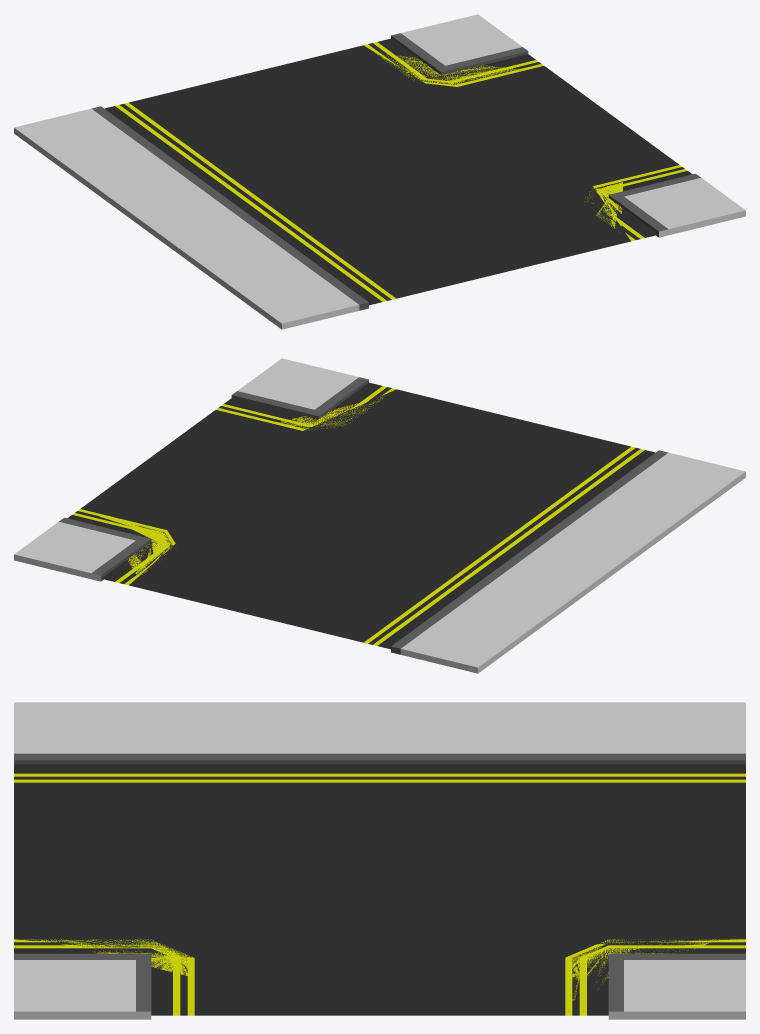
The model's file is m_e_s_road_3_intersection.fbx.
3 renders of one model, top to bottom at view 1: azimuth 30°, elevation 25°; view 2: azimuth 150°, elevation 25°; view 3: azimuth 270°, elevation 25°, orthographic. The views are drawn at different scales.
Visible parts, largest first — view 1: Cube.004, Cube.001, Cube.000, Cube.002; view 2: Cube.004, Cube.001, Cube.002, Cube.000; view 3: Cube.004, Cube.001, Cube.002, Cube.000.
Part boxes in pixels (x1,y1,x2,y2): Cube.004: (104,38,692,305); Cube.001: (14,106,368,329); Cube.000: (608,173,745,237); Cube.002: (391,14,528,75); Cube.004: (67,382,655,649); Cube.001: (391,450,745,673); Cube.002: (14,517,151,581); Cube.000: (231,358,368,419); Cube.004: (14,764,745,1015); Cube.001: (14,702,745,764); Cube.002: (608,953,745,1019); Cube.000: (14,953,151,1019).
Size of the model in its own units: 1600 by 20 by 1600.
